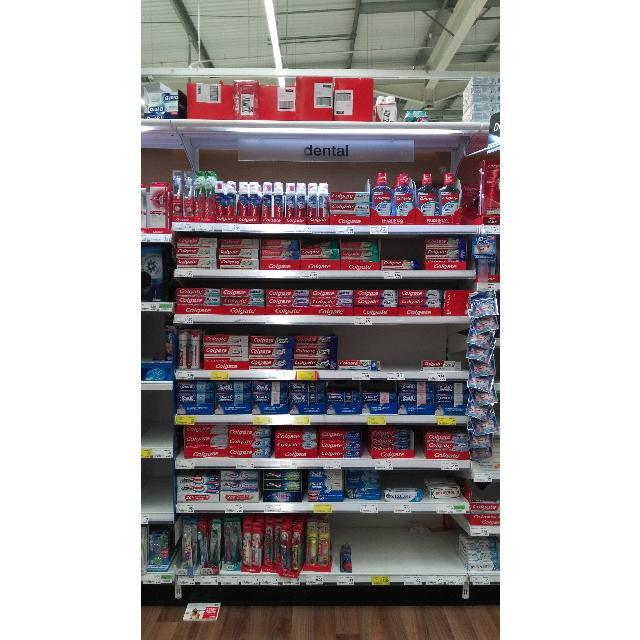empty: (351, 514, 459, 572), (428, 64, 462, 122), (381, 324, 421, 372), (140, 392, 172, 448), (140, 458, 172, 514)
